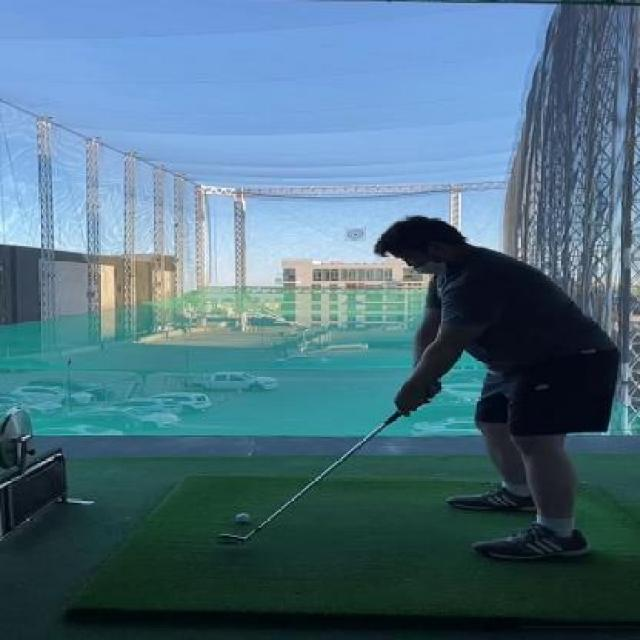club head: (212, 526, 258, 548)
